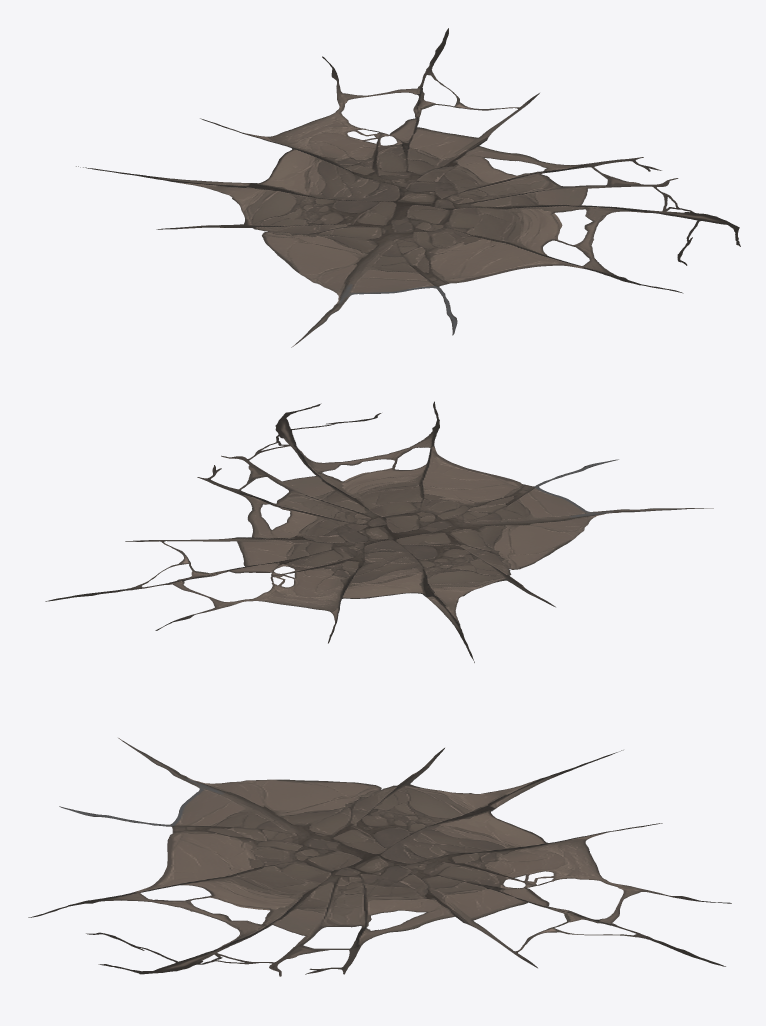
File: Road_Damaged_app02.fbx
The picture shows the model from 3 angles, top to bottom: view 1: azimuth 30°, elevation 25°; view 2: azimuth 150°, elevation 25°; view 3: azimuth 270°, elevation 25°; orthographic projection. The views are drawn at different scales.
Visible parts, largest first — view 1: Plane001; view 2: Plane001; view 3: Plane001.
Boxes of the visible parts, left/top/right/bottom form: Plane001: left=76, top=28, right=740, bottom=347; Plane001: left=45, top=401, right=713, bottom=662; Plane001: left=28, top=738, right=731, bottom=976.
Size of the model in its own units: 9.91 by 6.46e-16 by 10.56.
